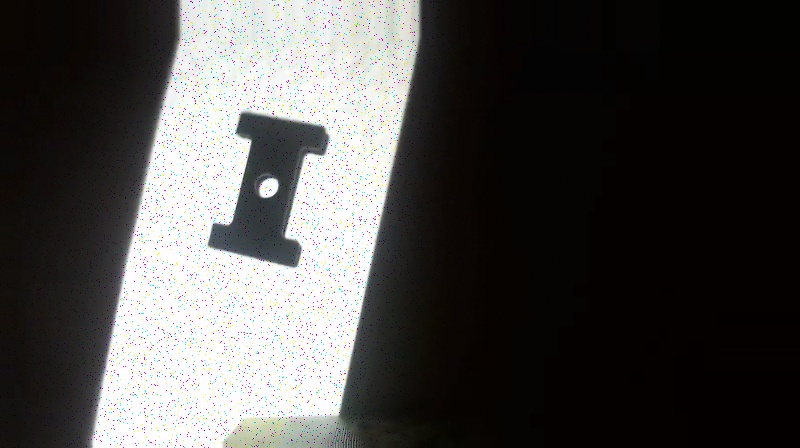O002: (204, 109, 330, 271)
